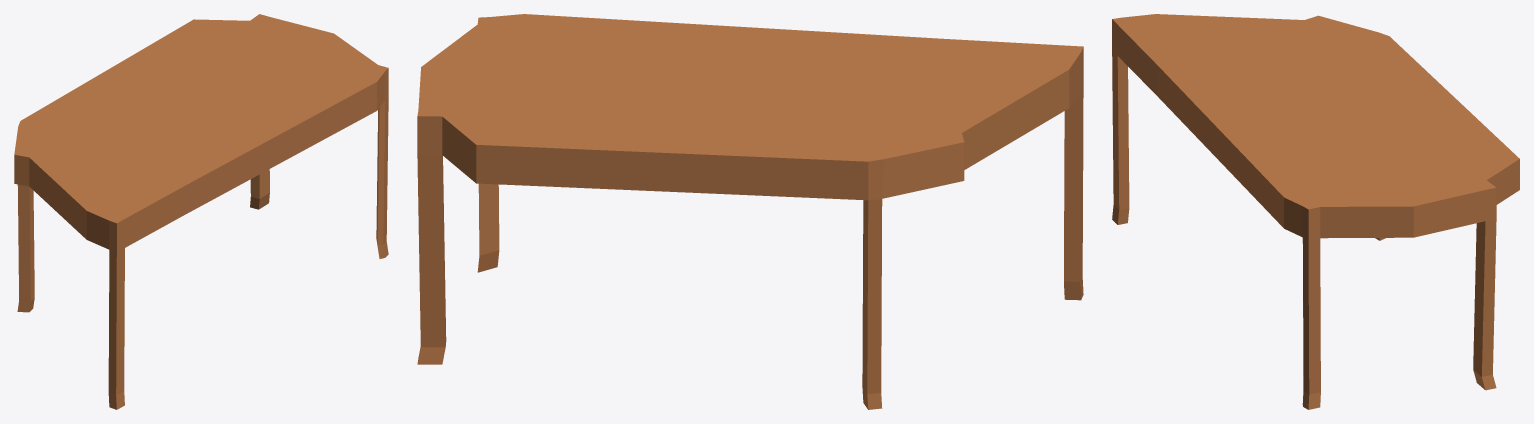
Rendered from lacune.fbx_TableBig.fbx.
3 views of the same model, side by side, from view 1: azimuth 30°, elevation 25°; view 2: azimuth 150°, elevation 25°; view 3: azimuth 270°, elevation 25° (orthographic). The views are drawn at different scales.
Parts seen in each view (by area): view 1: TableBig; view 2: TableBig; view 3: TableBig.
Part boxes in pixels (box(x1,y1,x2,y2)): TableBig: box(14, 14, 388, 409); TableBig: box(417, 14, 1083, 409); TableBig: box(1112, 14, 1519, 409).
Size of what is drawn, in the model's own units: 119 by 56.89 by 105.
